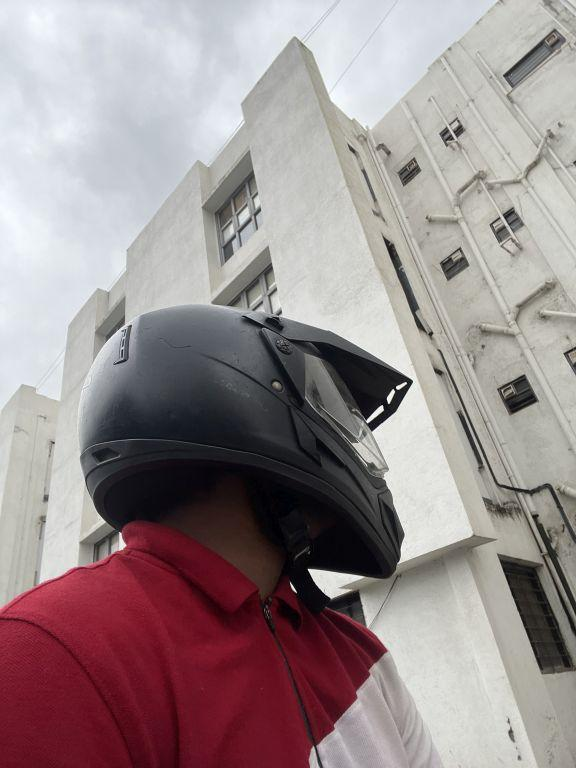helmet: (70, 290, 436, 593)
